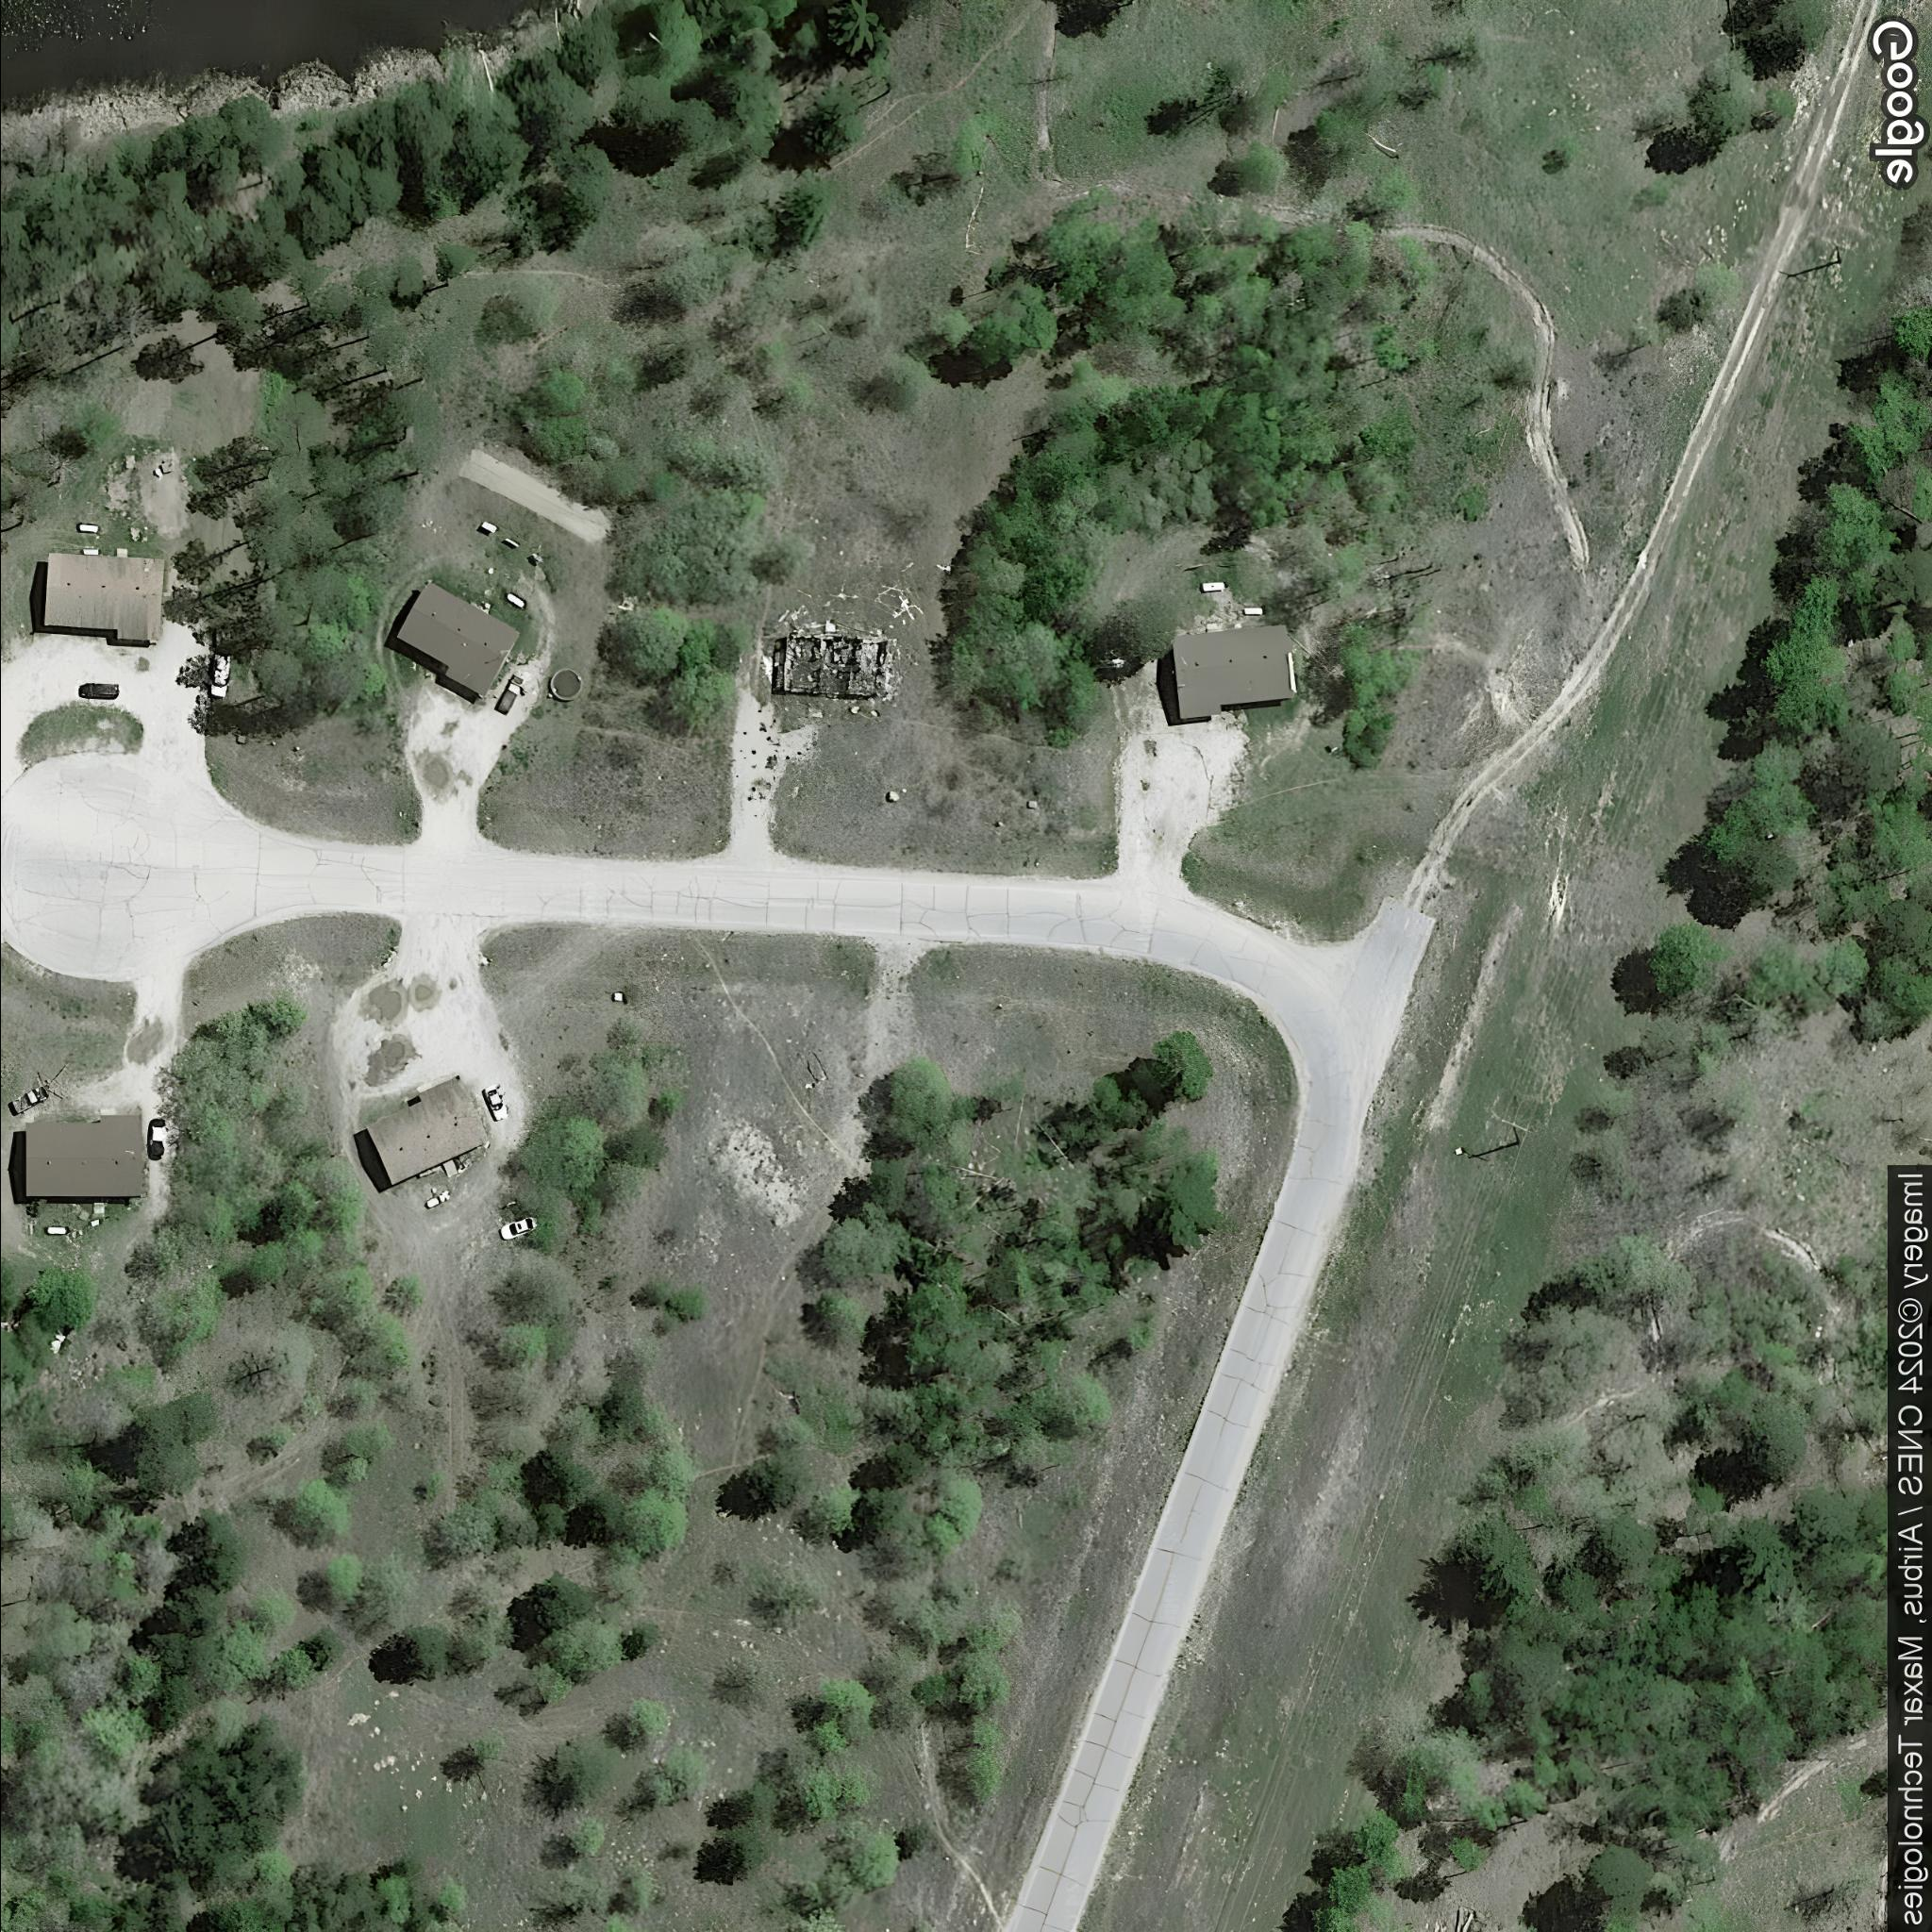House: (393, 579, 524, 697), (361, 1072, 492, 1189), (1171, 621, 1297, 720), (41, 552, 165, 642), (23, 1111, 147, 1200)
Propane: (499, 589, 529, 614), (1196, 580, 1228, 596), (421, 1194, 444, 1212), (1238, 605, 1269, 617), (41, 1224, 69, 1237), (74, 522, 101, 534)
